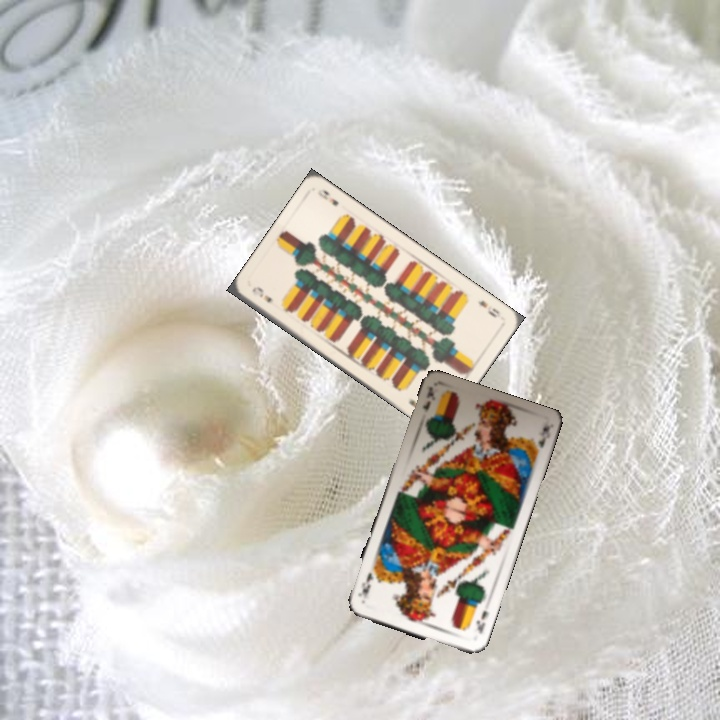E9: (474, 296, 502, 320), (248, 282, 275, 305)
EK: (419, 383, 438, 416), (472, 607, 491, 637)
